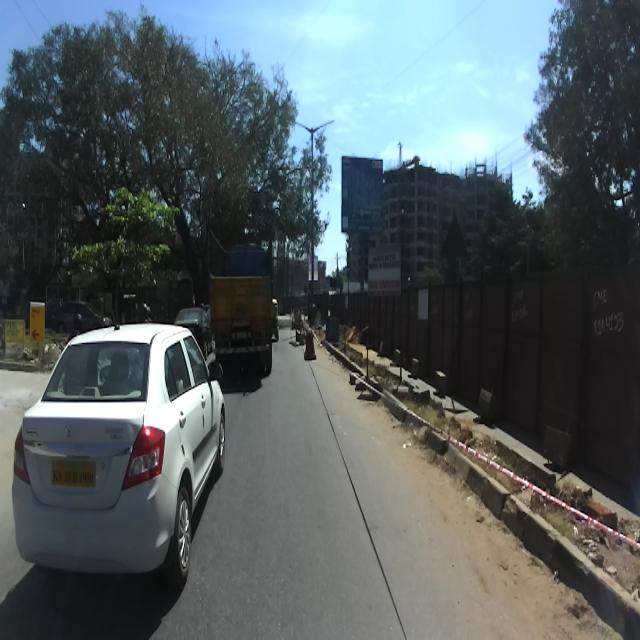car ahead at: (10, 322, 232, 599)
